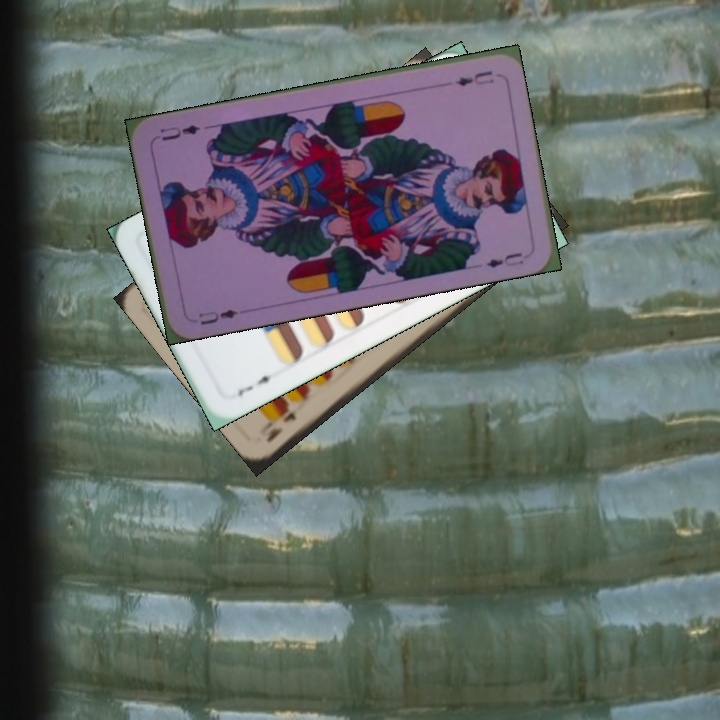E10: (261, 405, 300, 445)
E7: (233, 371, 280, 400)
EU: (194, 305, 241, 328), (452, 66, 496, 89)
